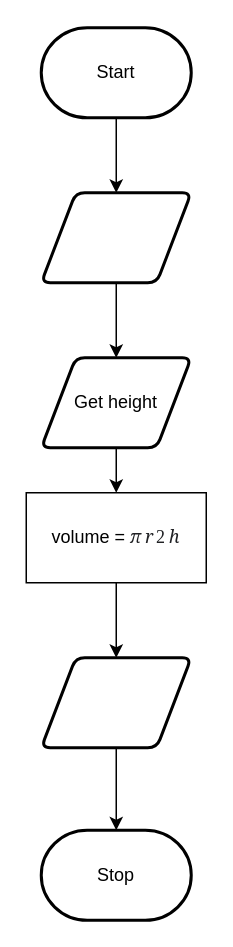
Some shapes in this 233 by 947 pixel diagram are drawn without their labels. The centre of each missing label's shape, as x and y in pixels:
"Get radius" goes at point 115,237.
"Show volume" goes at point 115,702.
